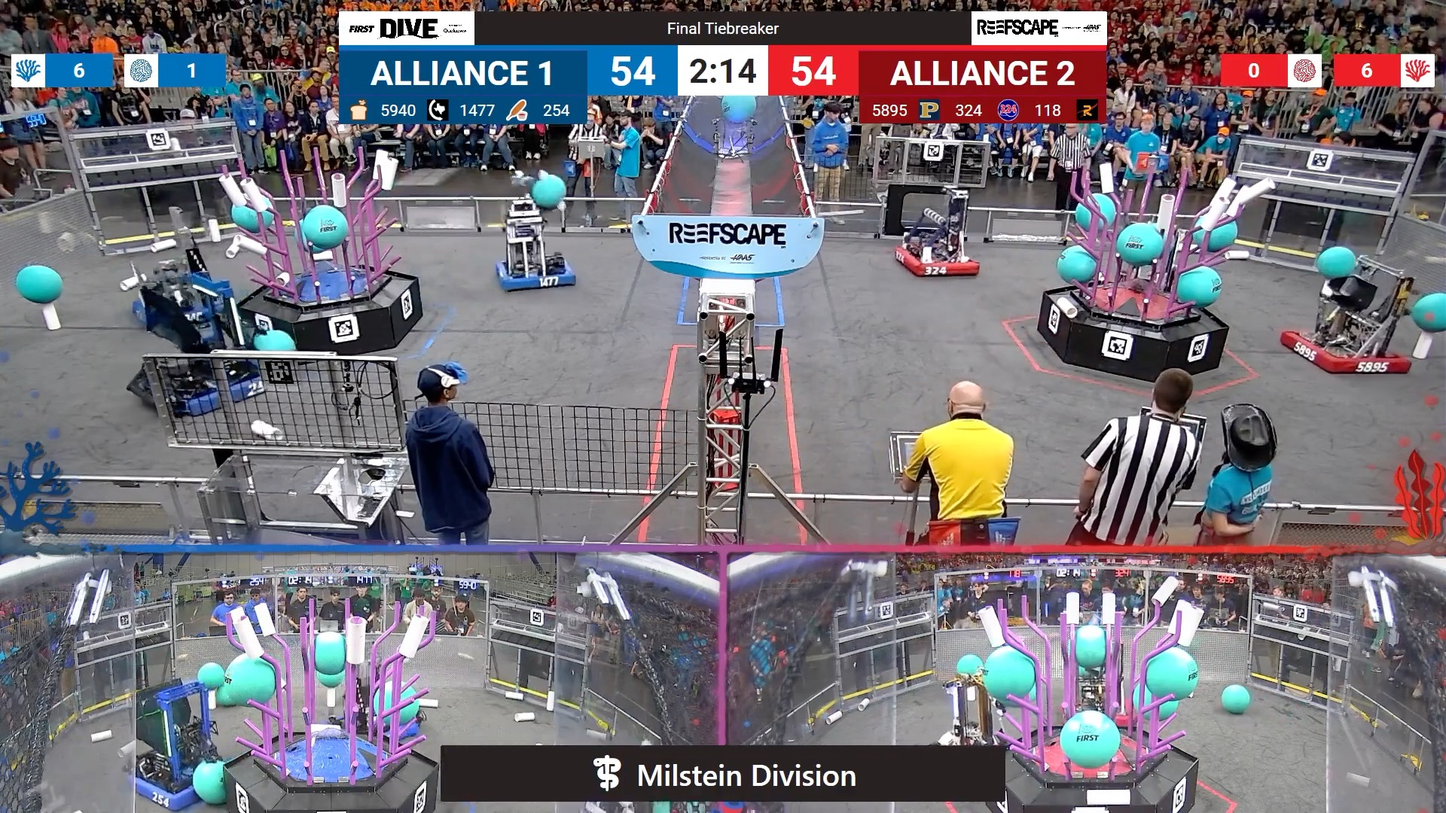bumpers: (131, 356, 271, 416), (1270, 322, 1408, 382), (125, 767, 225, 813), (128, 294, 227, 332), (886, 244, 983, 282), (488, 254, 579, 294), (1069, 690, 1141, 730)
